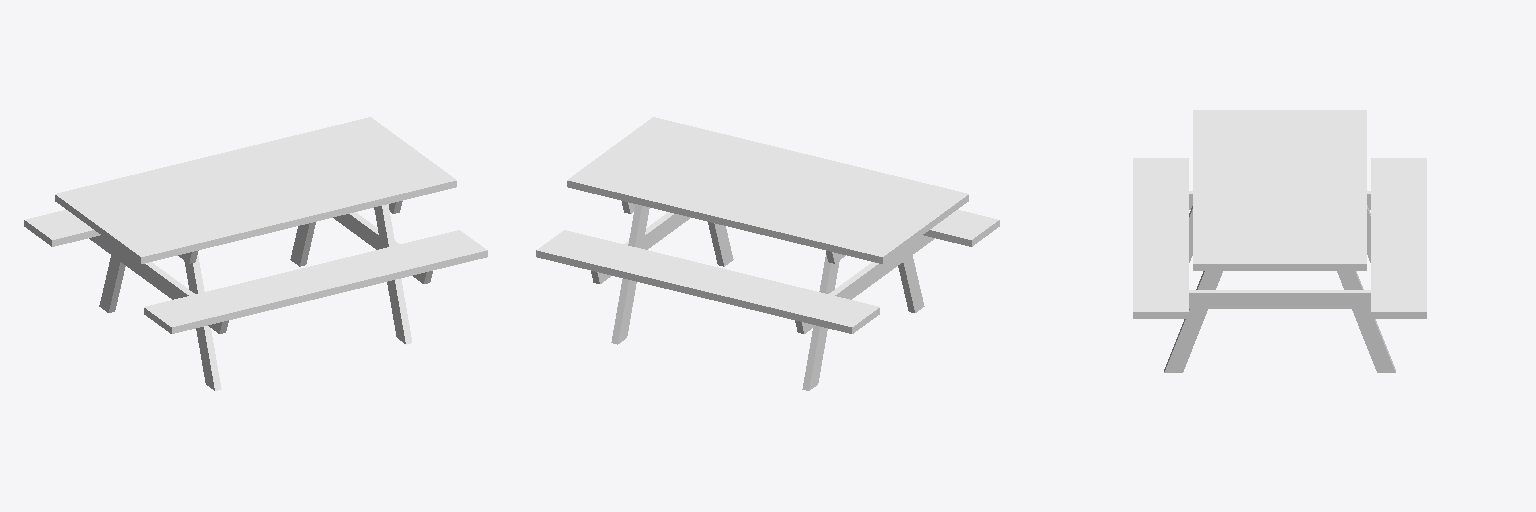
File: bench.obj
3 views of the same model, side by side, from view 1: azimuth 30°, elevation 25°; view 2: azimuth 150°, elevation 25°; view 3: azimuth 270°, elevation 25° (orthographic).
Visible parts, largest first — view 1: Box_9__0_19_19, Box__4_26_26, Box_4_17_17, Box_5__5_33_33, Box_7__3_15_15, Box_8_16_16, Box_10_18_18, Box_2__2_8_8, Box_6__0_10_10; view 2: Box_9__0_19_19, Box_5__5_33_33, Box_4_17_17, Box__4_26_26, Box_6__0_10_10, Box_2__2_8_8, Box_10_18_18, Box_8_16_16, Box_7__3_15_15; view 3: Box_9__0_19_19, Box_5__5_33_33, Box__4_26_26, Box_10_18_18, Box_6__0_10_10, Box_7__3_15_15.
Boxes of the visible parts, box(x1,y1,x2,y2) form: Box_9__0_19_19: box(55, 117, 456, 263); Box__4_26_26: box(144, 230, 487, 333); Box_4_17_17: box(89, 235, 228, 333); Box_5__5_33_33: box(24, 210, 100, 246); Box_7__3_15_15: box(374, 204, 411, 344); Box_8_16_16: box(184, 255, 221, 390); Box_10_18_18: box(333, 212, 432, 283); Box_2__2_8_8: box(99, 255, 125, 312); Box_6__0_10_10: box(290, 222, 315, 266); Box_9__0_19_19: box(567, 117, 968, 263); Box_5__5_33_33: box(536, 230, 879, 333); Box_4_17_17: box(795, 235, 934, 333); Box__4_26_26: box(923, 210, 999, 246); Box_6__0_10_10: box(611, 204, 649, 344); Box_2__2_8_8: box(802, 255, 839, 390); Box_10_18_18: box(591, 212, 690, 283); Box_8_16_16: box(898, 255, 924, 312); Box_7__3_15_15: box(708, 222, 733, 266); Box_9__0_19_19: box(1193, 110, 1366, 270); Box_5__5_33_33: box(1371, 158, 1426, 318); Box__4_26_26: box(1133, 158, 1188, 318); Box_10_18_18: box(1189, 290, 1370, 308); Box_6__0_10_10: box(1337, 271, 1395, 372); Box_7__3_15_15: box(1164, 271, 1222, 372).
Bounding box in the file's own units: 180 × 75 × 145.